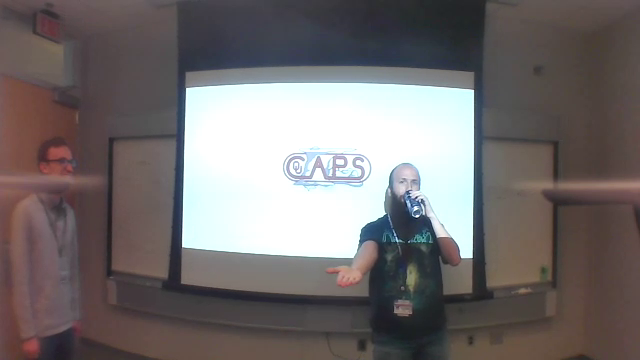land: (324, 259, 367, 293)
